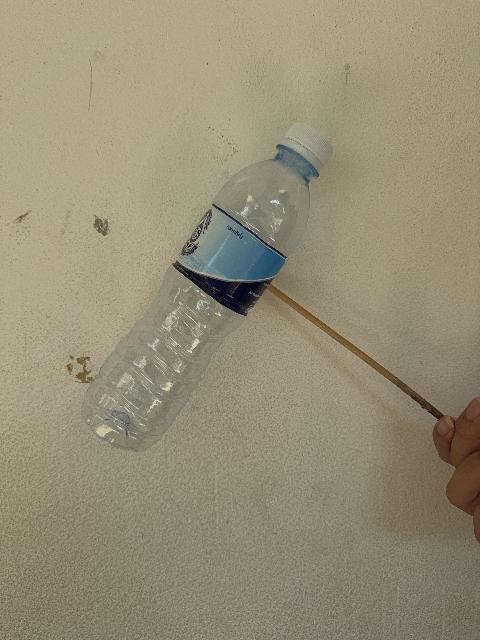bottle: (82, 124, 331, 451)
